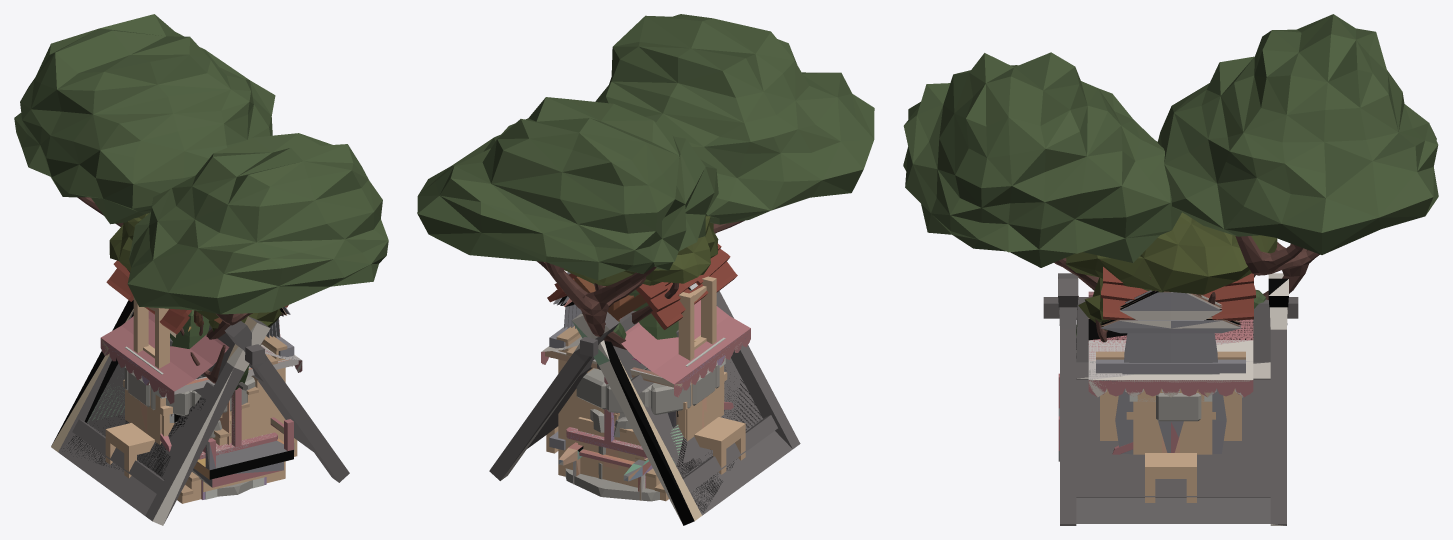
The model's file is props.glb.
3 renders of one model, left to right at view 1: azimuth 30°, elevation 25°; view 2: azimuth 150°, elevation 25°; view 3: azimuth 270°, elevation 25°, orthographic. The views are drawn at different scales.
Parts seen in each view (by area): view 1: tree_cottonwood, tent, stall_bakery, cart, well, stairs, shelf, tree_mesquite, saloon_table, stall_fur, cactus_b, bank_counter (+5 smaller); view 2: tree_cottonwood, tent, well, stall_bakery, tree_mesquite, shelf, stairs, saloon_table, cot, cart, stall_fur, bank_counter (+4 smaller); view 3: tree_cottonwood, tent, jail_bars, tree_mesquite, well, stall_bakery, stall_fur, stairs, bank_counter, saloon_table, counter.
Part boxes in pixels (bbox=[...]): tree_cottonwood: bbox=[14, 14, 388, 339]; tent: bbox=[51, 300, 349, 525]; stall_bakery: bbox=[100, 310, 302, 458]; cart: bbox=[160, 417, 293, 487]; well: bbox=[106, 260, 288, 496]; stairs: bbox=[177, 335, 287, 503]; shelf: bbox=[133, 297, 192, 368]; tree_mesquite: bbox=[109, 213, 281, 331]; saloon_table: bbox=[105, 411, 297, 478]; stall_fur: bbox=[101, 311, 302, 454]; cactus_b: bbox=[170, 310, 209, 348]; bank_counter: bbox=[125, 346, 163, 437]; tree_cottonwood: bbox=[417, 14, 874, 349]; tent: bbox=[489, 291, 800, 525]; well: bbox=[547, 243, 737, 501]; stall_bakery: bbox=[541, 300, 750, 487]; tree_mesquite: bbox=[564, 215, 718, 285]; shelf: bbox=[592, 276, 716, 360]; stairs: bbox=[556, 326, 668, 501]; saloon_table: bbox=[546, 417, 745, 474]; cot: bbox=[578, 417, 644, 487]; cart: bbox=[558, 401, 733, 500]; stall_fur: bbox=[541, 301, 750, 448]; bank_counter: bbox=[685, 337, 725, 438]; tree_cottonwood: bbox=[903, 14, 1438, 300]; tent: bbox=[1043, 273, 1298, 525]; jail_bars: bbox=[1096, 290, 1245, 454]; tree_mesquite: bbox=[1065, 212, 1277, 330]; well: bbox=[1076, 260, 1255, 421]; stall_bakery: bbox=[1088, 291, 1253, 397]; stall_fur: bbox=[1088, 292, 1253, 396]; stairs: bbox=[1096, 351, 1245, 440]; bank_counter: bbox=[1129, 374, 1212, 454]; saloon_table: bbox=[1145, 453, 1196, 502]; counter: bbox=[1129, 395, 1212, 454].
Bounding box in the file's own units: 2.44 × 3.2 × 3.58.
